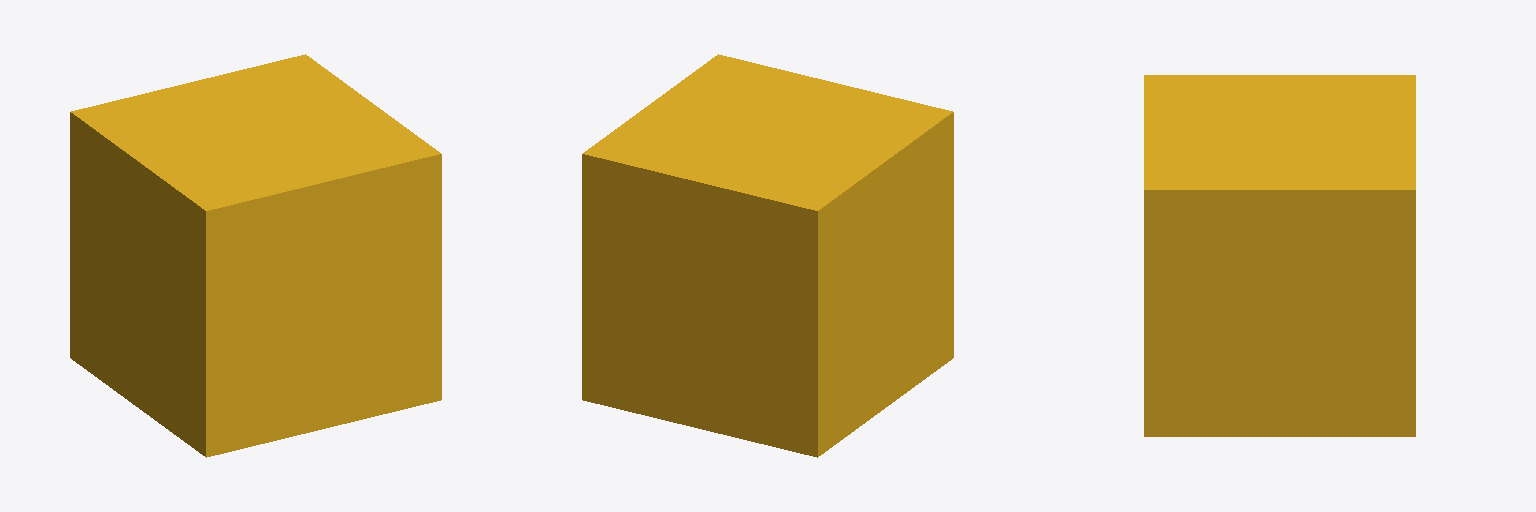
3 renders of one model, left to right at view 1: azimuth 30°, elevation 25°; view 2: azimuth 150°, elevation 25°; view 3: azimuth 270°, elevation 25°, orthographic.
Size of the model in its own units: 10 by 10 by 10.
Materials: 1 (1 with a texture image).